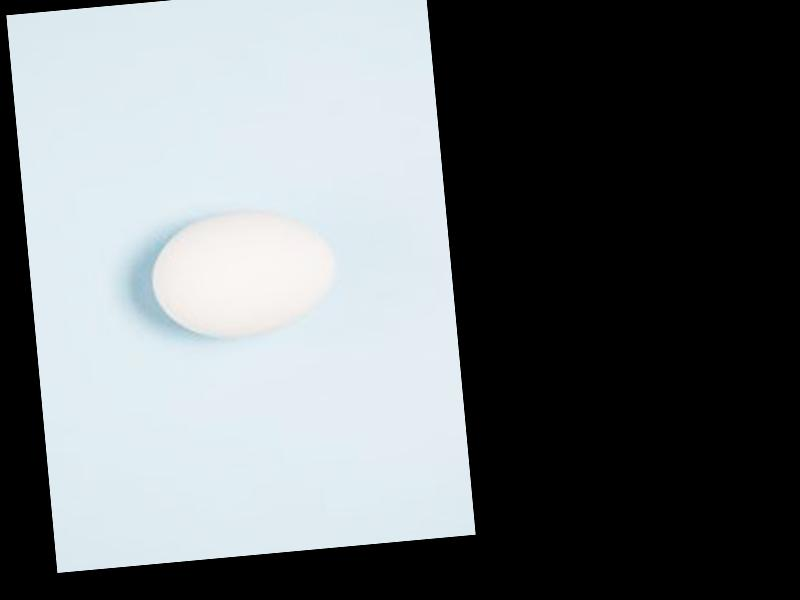Eggs: (146, 202, 343, 343)
